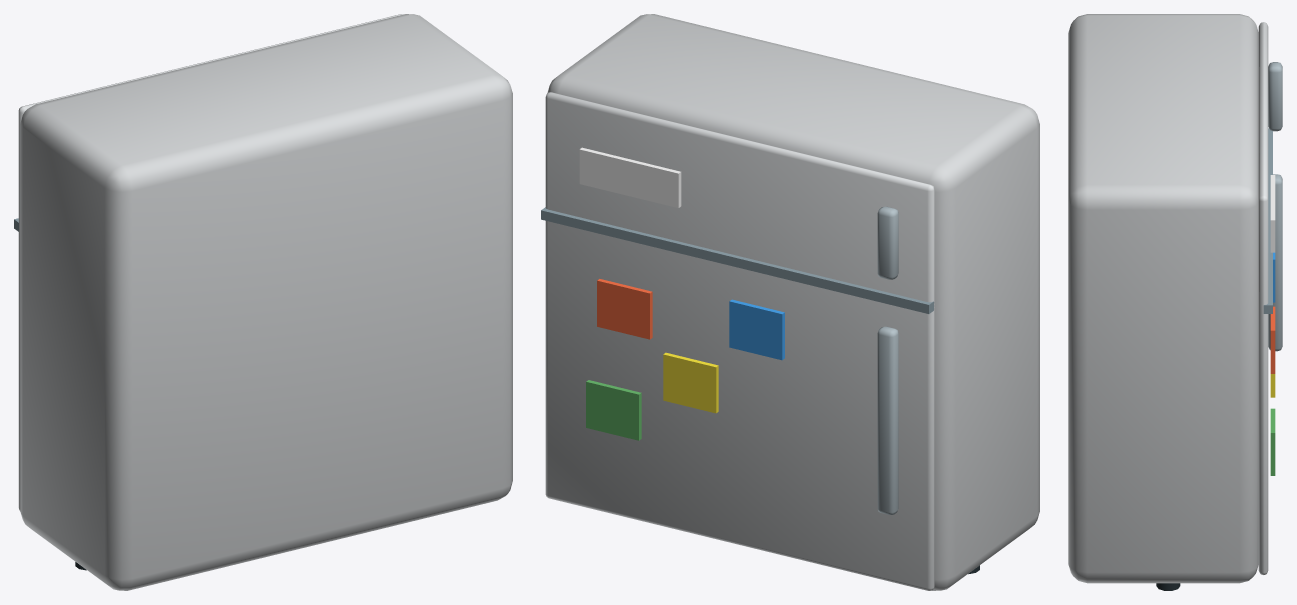
File: mini_fridge.fbx
3 views of the same model, side by side, from view 1: azimuth 30°, elevation 25°; view 2: azimuth 150°, elevation 25°; view 3: azimuth 270°, elevation 25° (orthographic). The views are drawn at different scales.
Parts seen in each view (by area): view 1: Mini Fridge; view 2: Mini Fridge; view 3: Mini Fridge.
Part boxes in pixels (left/top/right/bottom): Mini Fridge: left=14, top=14, right=512, bottom=590; Mini Fridge: left=541, top=14, right=1039, bottom=590; Mini Fridge: left=1068, top=14, right=1282, bottom=590.
Size of the model in its own units: 1.84 by 1.88 by 0.9.
